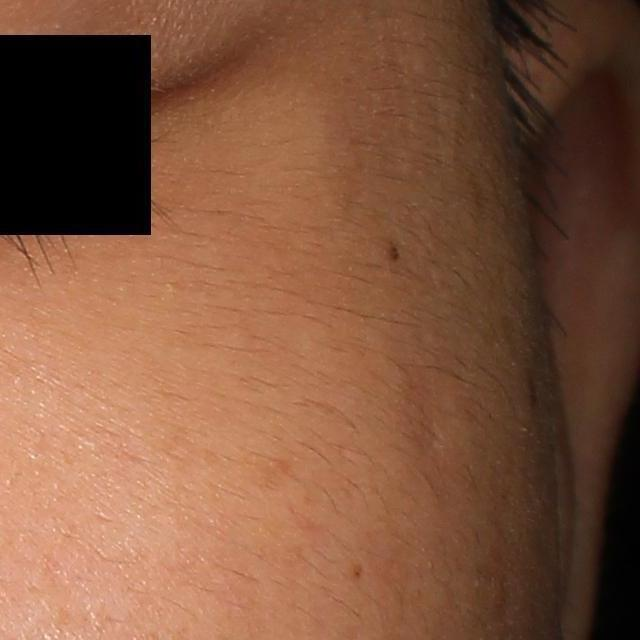nevus: (388, 241, 401, 265)
